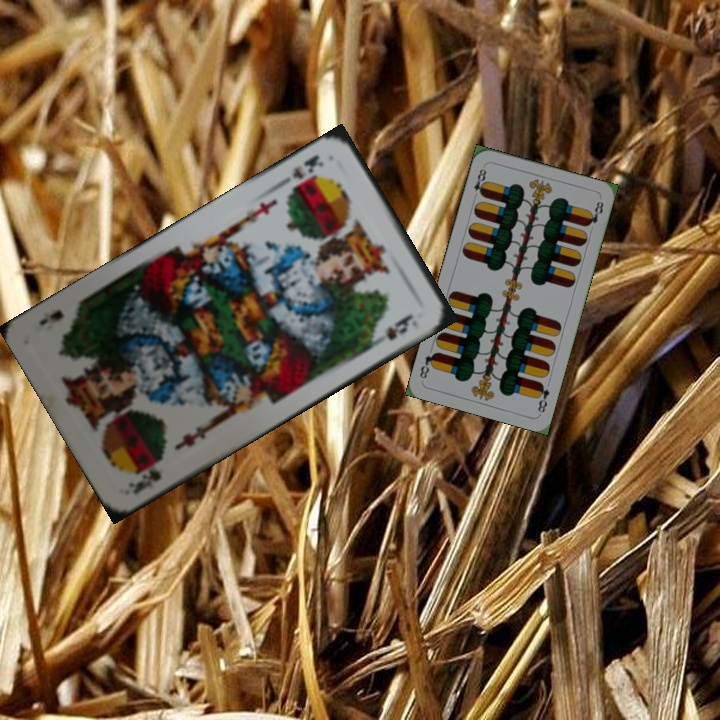E8: (469, 162, 489, 202), (533, 379, 552, 416)
SK: (277, 150, 327, 192), (124, 454, 167, 497)
